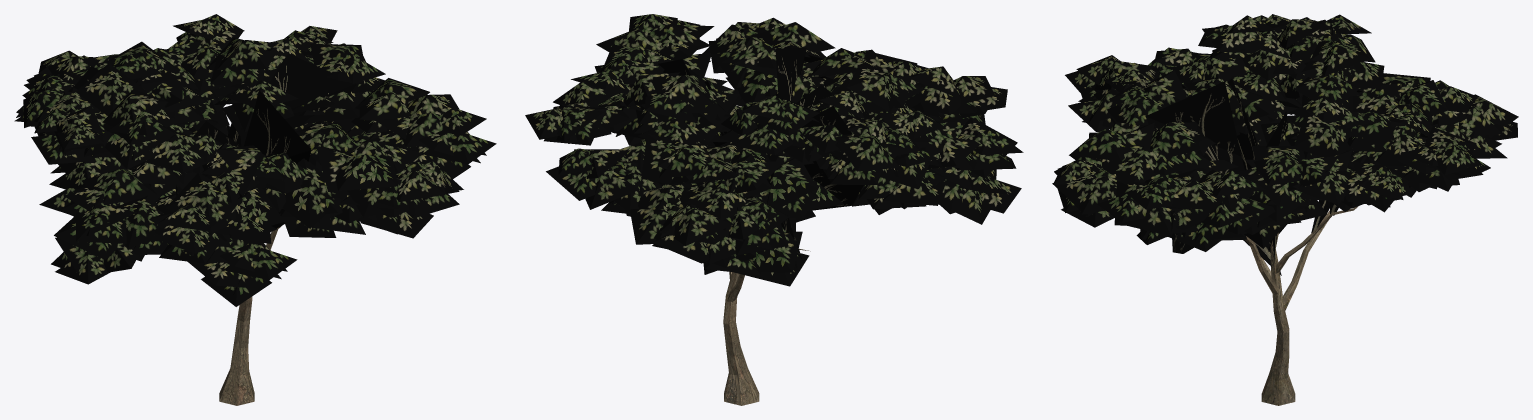
Rendered from bg_anh_tree_te_t02_sm_old.FBX.
The picture shows the model from 3 angles, left to right: view 1: azimuth 30°, elevation 25°; view 2: azimuth 150°, elevation 25°; view 3: azimuth 270°, elevation 25°; orthographic projection. The views are drawn at different scales.
Visible parts, largest first — view 1: bg_anh_tree_te_t02_sm_old; view 2: bg_anh_tree_te_t02_sm_old; view 3: bg_anh_tree_te_t02_sm_old.
Part boxes in pixels (<box>): bg_anh_tree_te_t02_sm_old: <box>14,14,496,405</box>; bg_anh_tree_te_t02_sm_old: <box>525,14,1023,405</box>; bg_anh_tree_te_t02_sm_old: <box>1052,14,1518,405</box>.
Bounding box in the file's own units: 584 × 464 × 604.
